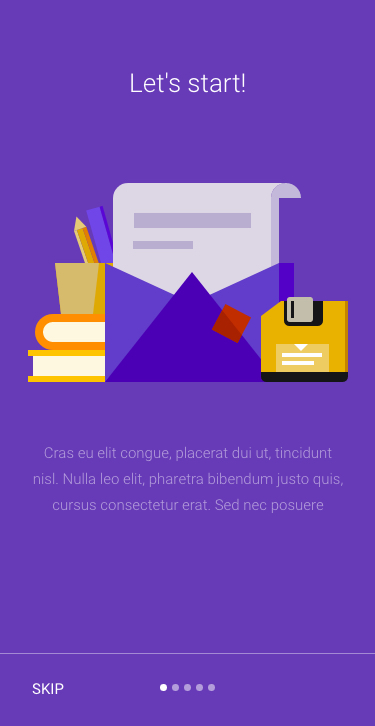Image: (28, 183, 349, 383)
PageIndicator: (159, 683, 217, 692)
Text: (33, 445, 345, 515), (131, 71, 246, 95), (33, 681, 65, 695)
